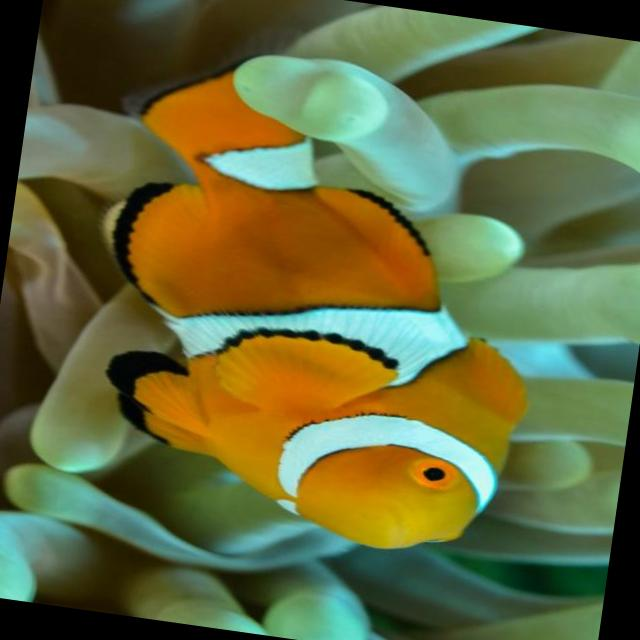ClownFish: (42, 52, 594, 596)
